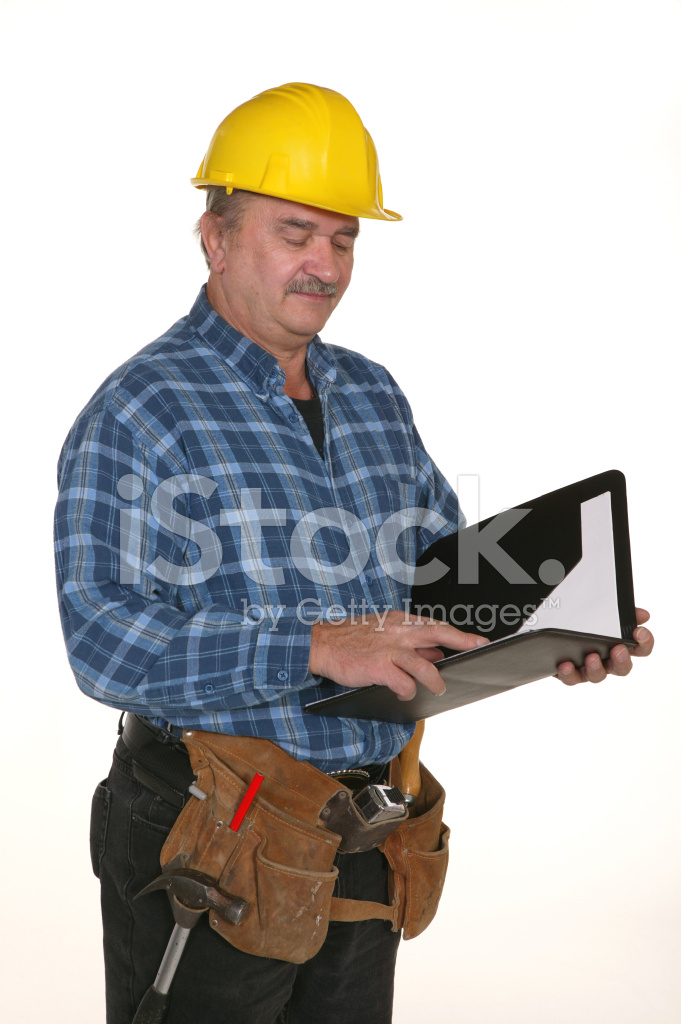safetyhat: (31, 63, 622, 1014)
